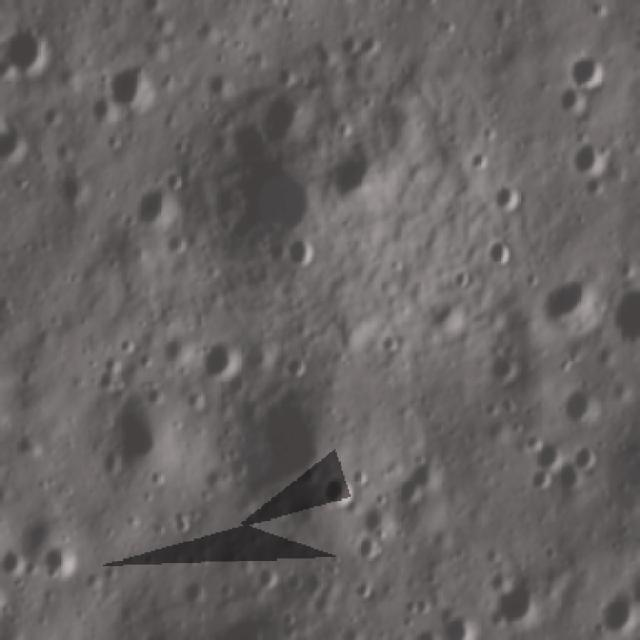crater: (218, 383, 338, 509), (224, 151, 322, 234), (108, 395, 172, 471), (328, 136, 384, 204), (536, 274, 596, 332), (391, 449, 440, 516), (109, 57, 160, 121), (490, 576, 545, 629), (4, 16, 50, 79), (256, 82, 304, 142), (130, 185, 182, 229), (196, 332, 238, 382), (234, 330, 278, 376), (566, 50, 611, 92), (42, 536, 83, 582), (600, 586, 637, 636), (320, 467, 357, 515), (566, 380, 602, 428), (572, 140, 618, 174), (548, 82, 587, 120), (282, 232, 320, 271), (57, 167, 95, 205), (489, 177, 525, 214), (531, 433, 564, 473), (158, 330, 191, 370), (2, 122, 30, 162), (486, 236, 520, 267), (352, 534, 382, 566), (572, 437, 598, 472), (38, 100, 67, 131), (181, 576, 207, 609), (89, 91, 111, 127), (253, 563, 278, 594), (352, 576, 378, 604), (160, 232, 189, 257)
